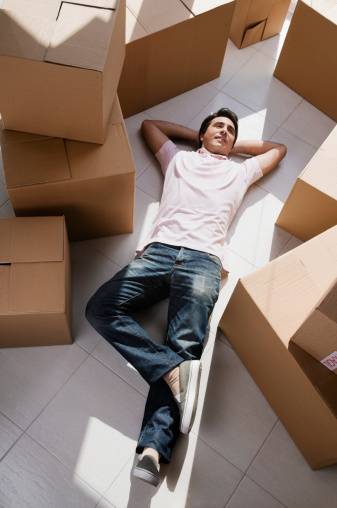deitado: (73, 65, 293, 500)
